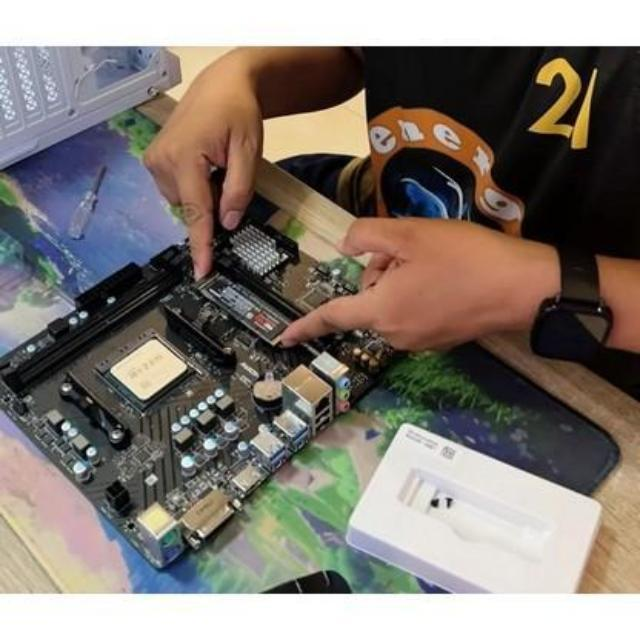CPU: (108, 338, 186, 400)
Mainboard: (0, 215, 425, 570)
